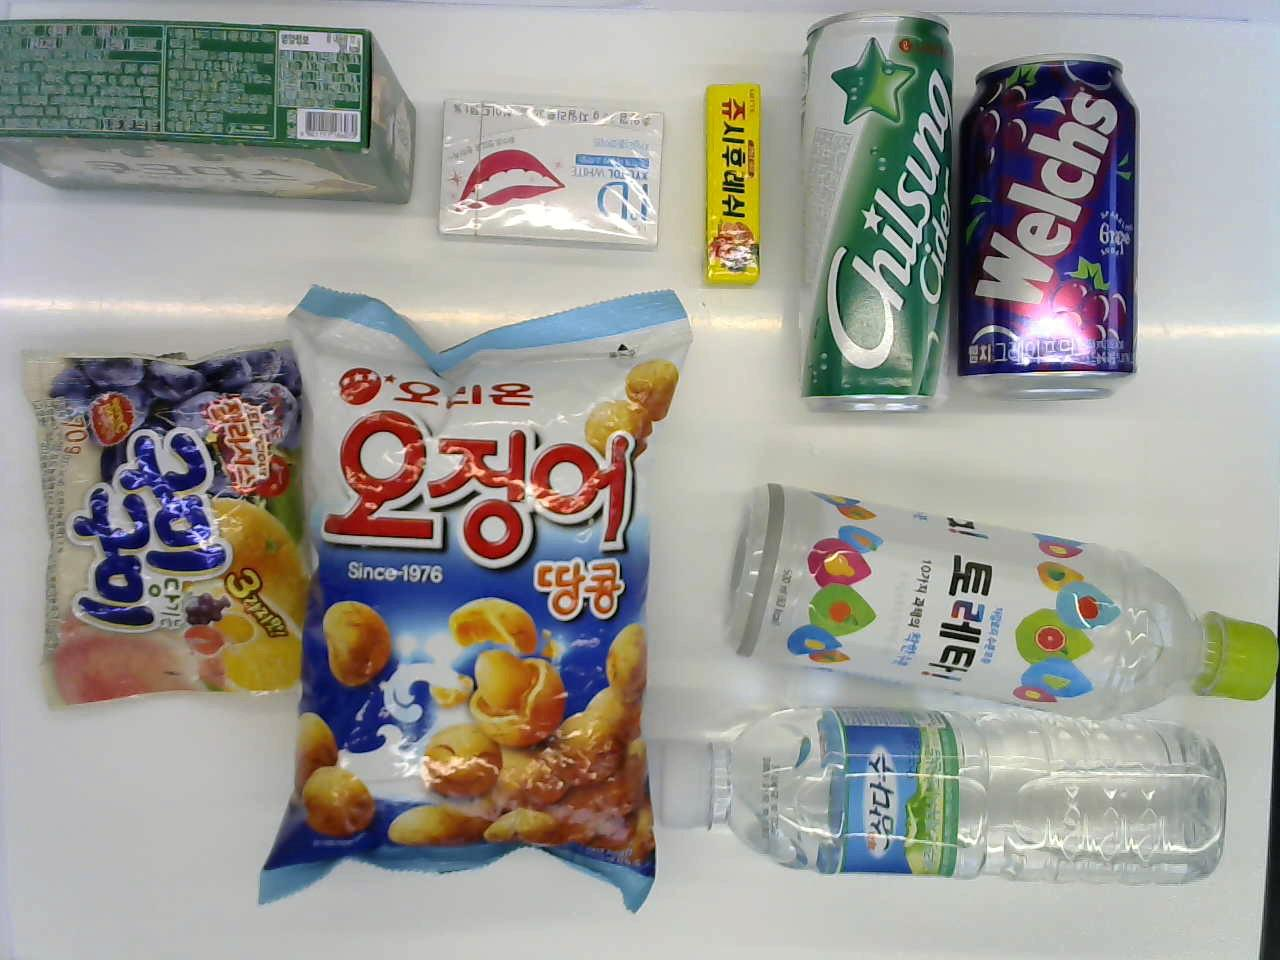ID_gum: (426, 98, 662, 246)
cidar: (791, 4, 958, 415)
couque_coffee: (0, 7, 414, 223)
gumi_gumi: (21, 339, 295, 701)
juicyfresh: (686, 70, 771, 291)
samdasu: (652, 691, 1225, 893)
squid_peanut: (304, 292, 680, 914)
toreta: (721, 468, 1272, 722)
welchs: (953, 49, 1138, 401)
